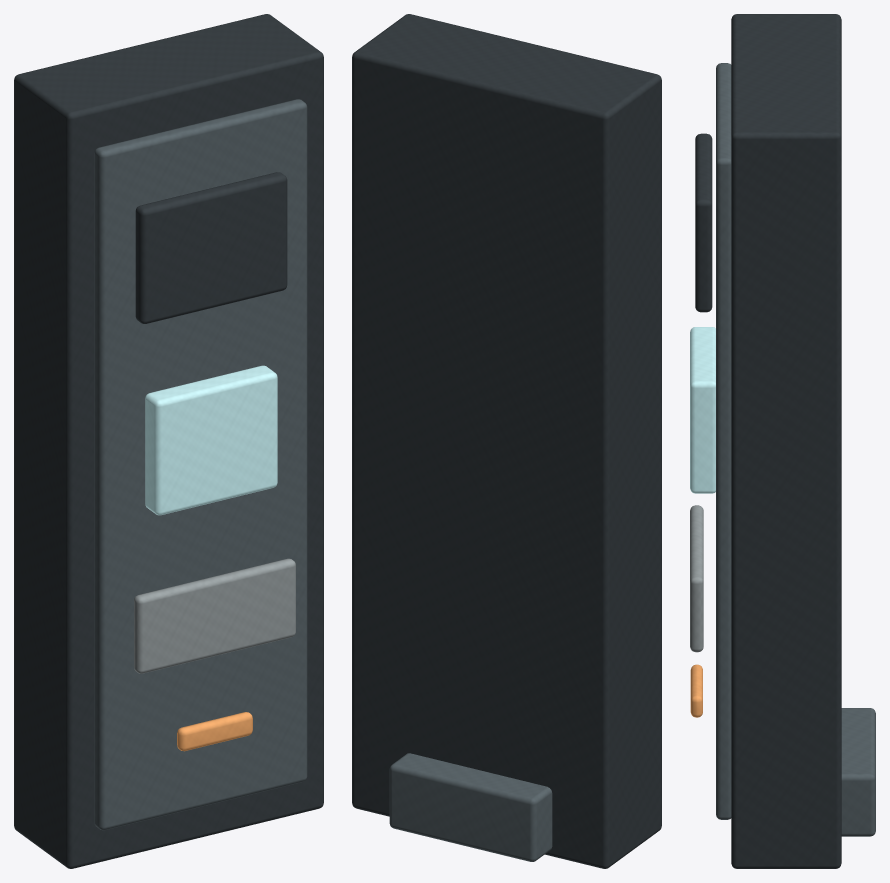
File: BiometricKeypad.glb
3 views of the same model, side by side, from view 1: azimuth 30°, elevation 25°; view 2: azimuth 150°, elevation 25°; view 3: azimuth 270°, elevation 25° (orthographic). The views are drawn at different scales.
Parts seen in each view (by area): view 1: BiometricKeypad_Mesh; view 2: BiometricKeypad_Mesh; view 3: BiometricKeypad_Mesh.
Part boxes in pixels (bbox=[...]): BiometricKeypad_Mesh: bbox=[14, 14, 323, 868]; BiometricKeypad_Mesh: bbox=[352, 14, 661, 868]; BiometricKeypad_Mesh: bbox=[690, 14, 875, 868].
Size of the model in its own units: 0.42 by 1.18 by 0.27.
5 materials, 5 textured.
